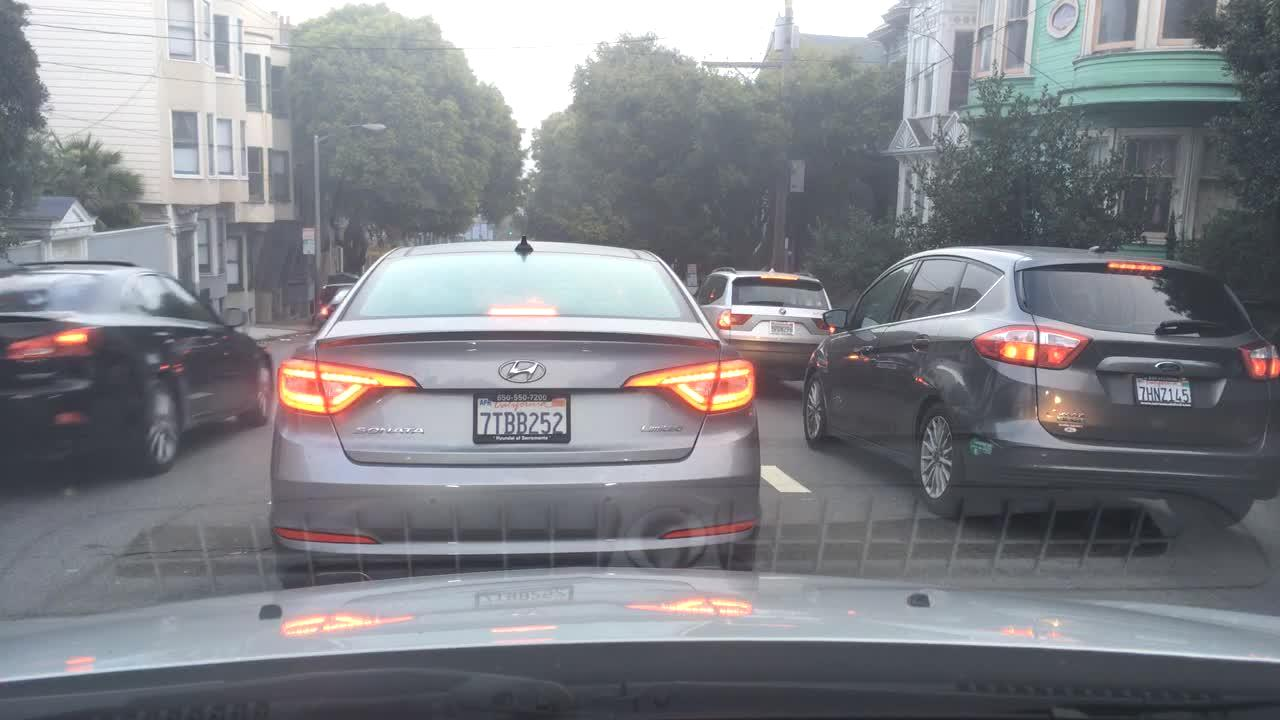Hyundai: (485, 348, 555, 396)
bmw: (777, 304, 789, 318)
ford: (1150, 356, 1184, 376)
